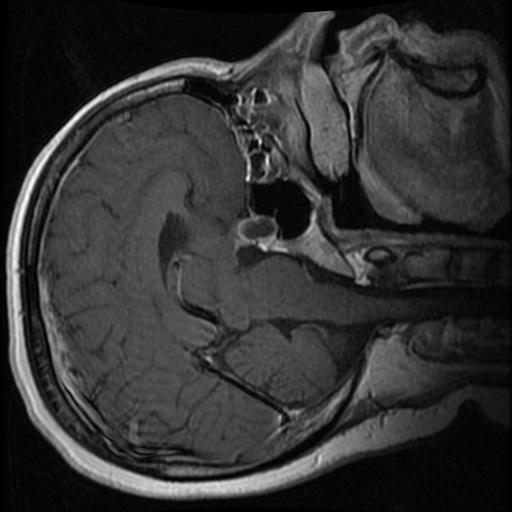pituitary tumour: (233, 214, 278, 250)
